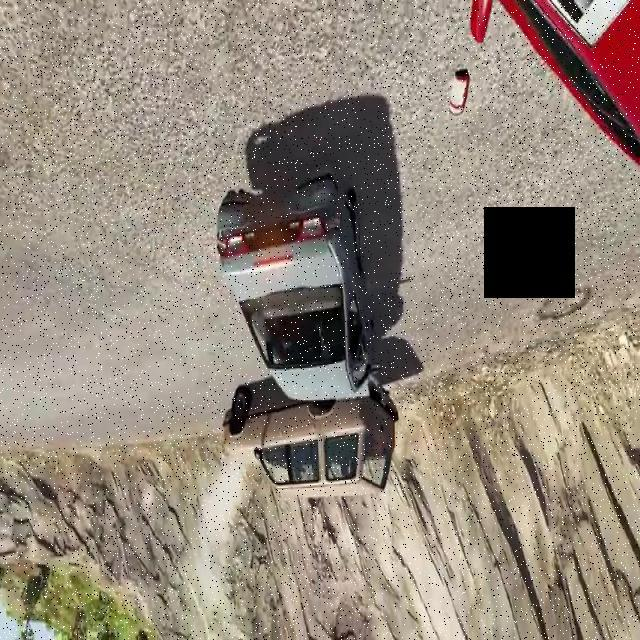moderate: (217, 164, 400, 520)
